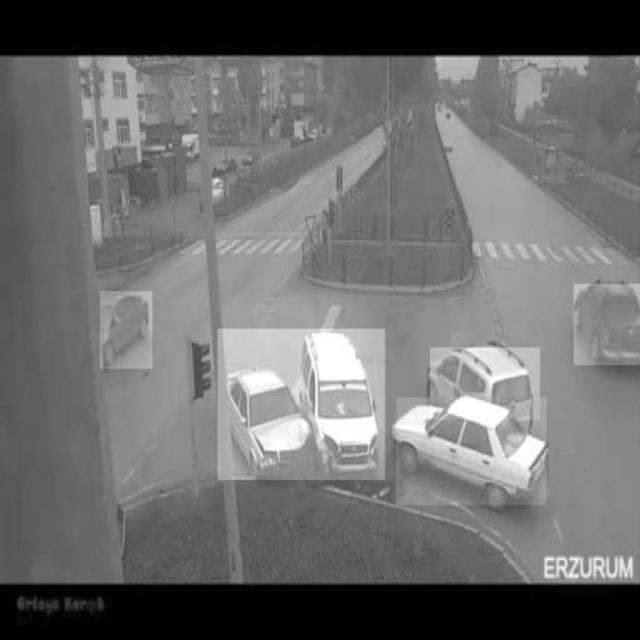accident: (218, 329, 385, 480)
vehicle: (397, 398, 547, 506), (430, 348, 540, 420), (574, 284, 640, 365), (100, 292, 154, 369)
